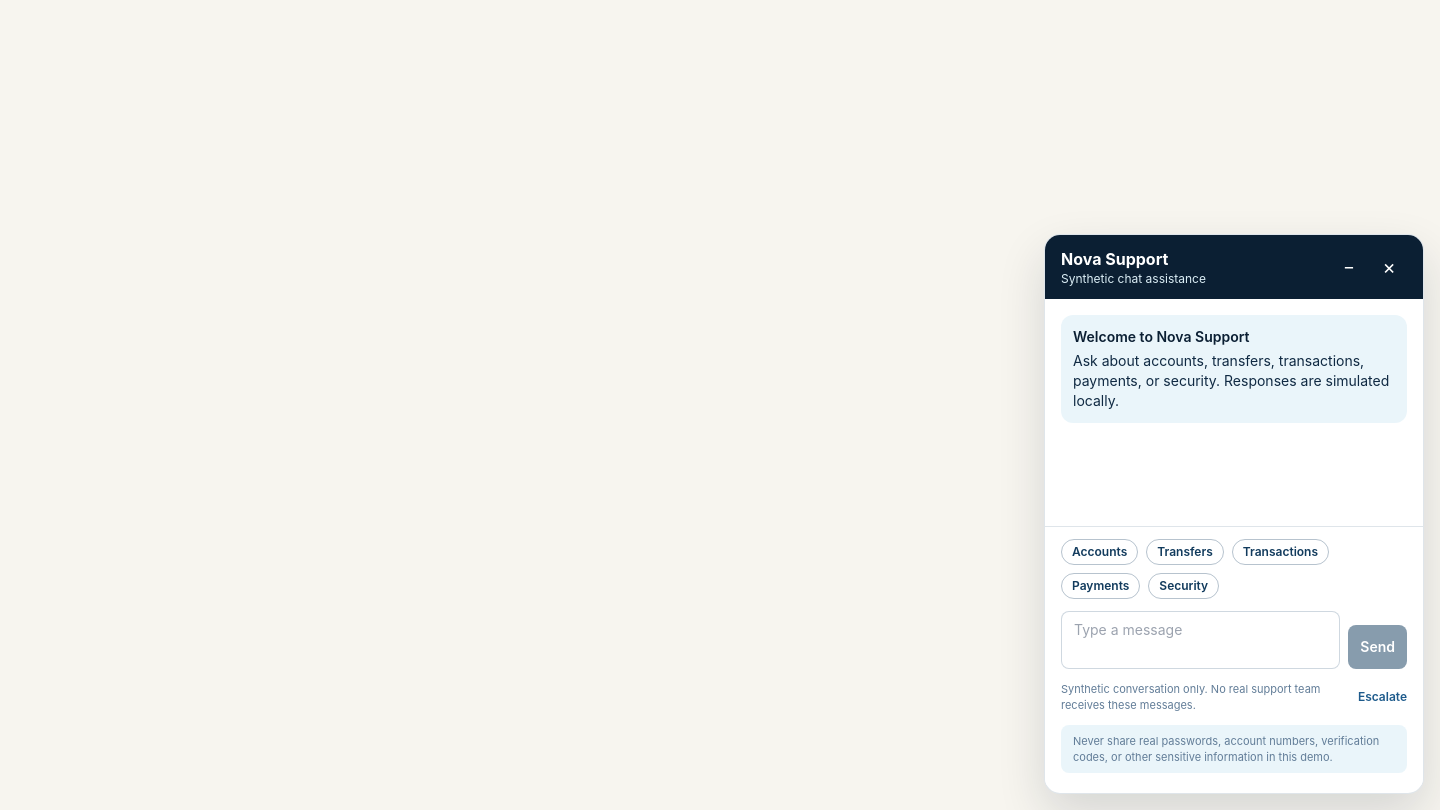
Test: ChatDrawer › records a simulated escalation without contacting a real support team
Click the button "Escalate".
click(1382, 697)  # box [1358,689,1407,705]
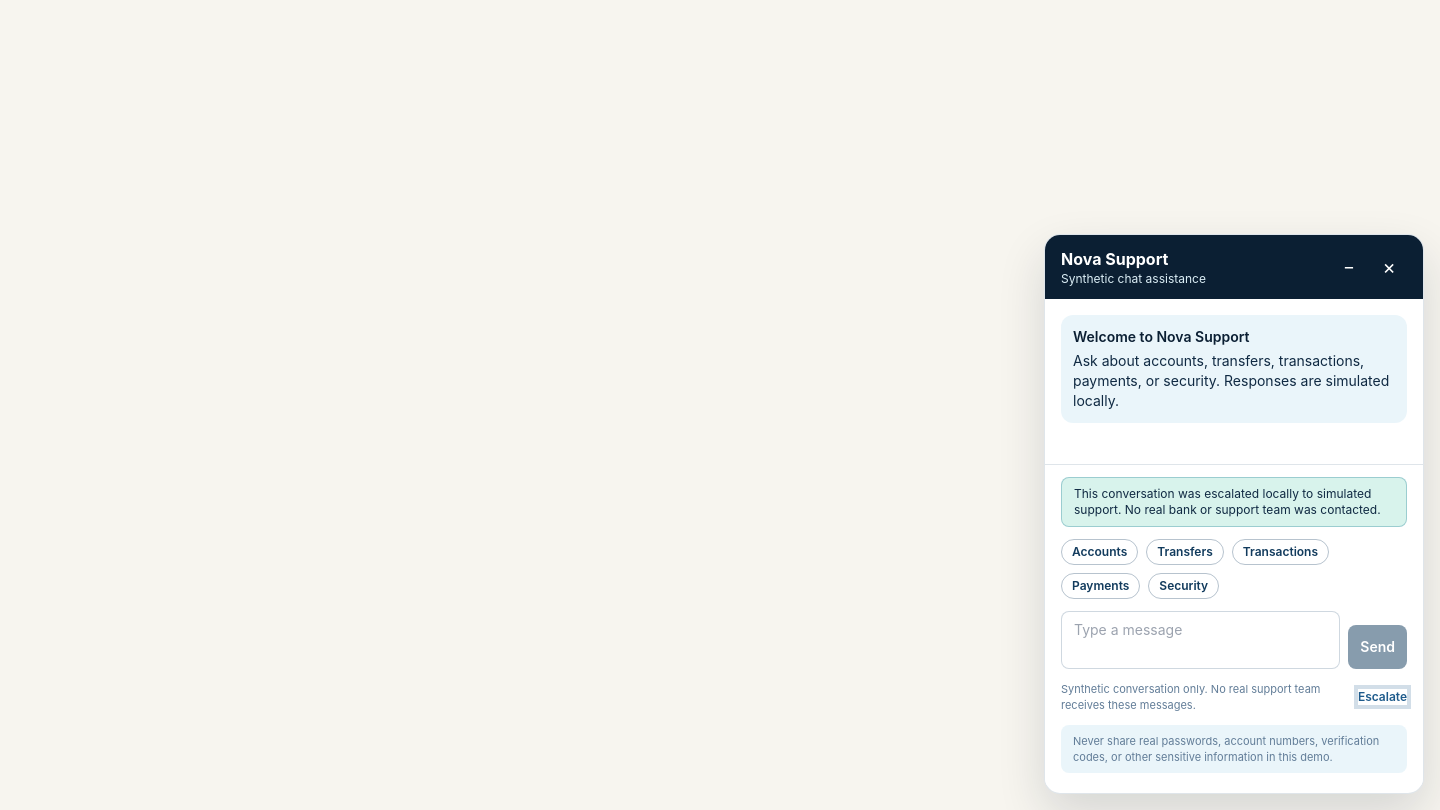
Expected: the message shows "This conversation was escalated locally to simulated support. No real bank or support team was contacted.", [1074,486,1381,517]
